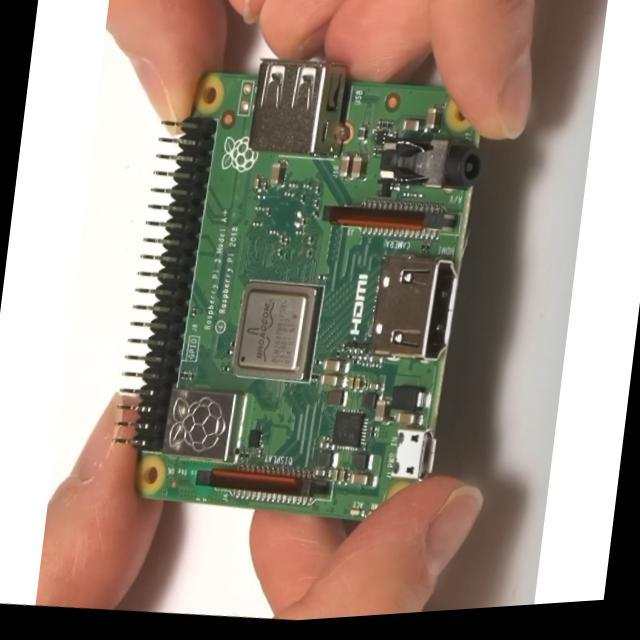Raspberry-Pi-3-A-: (123, 60, 481, 522)
